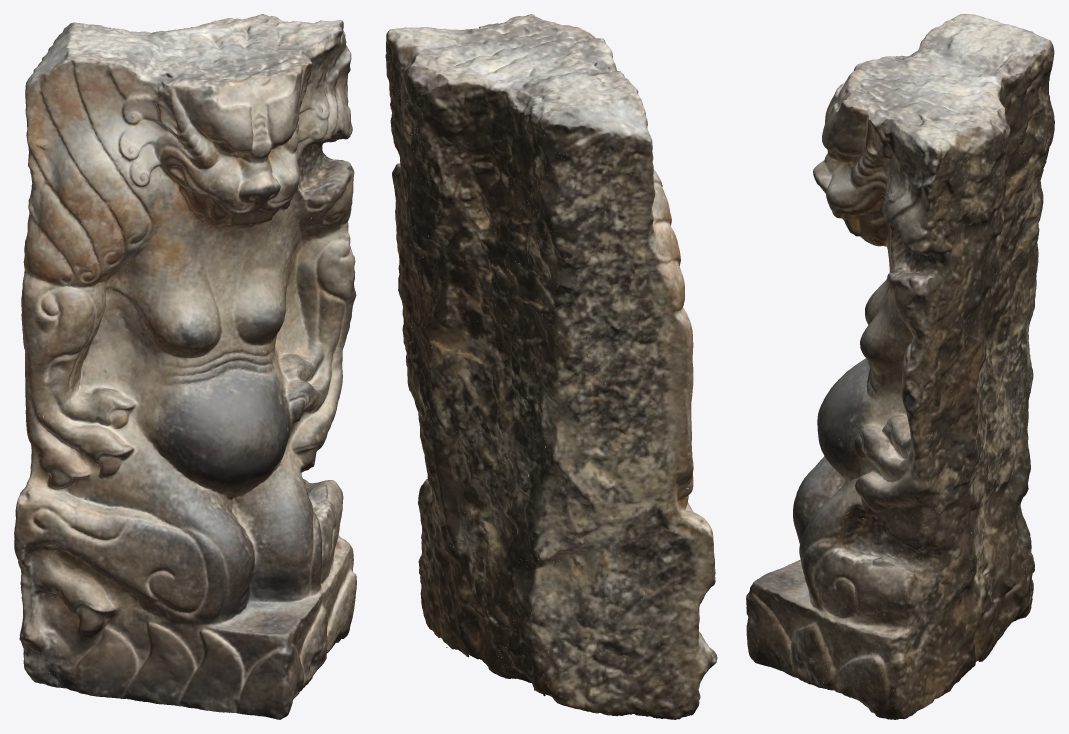
File: kneeling_winged_monster.glb
3 views of the same model, side by side, from view 1: azimuth 30°, elevation 25°; view 2: azimuth 150°, elevation 25°; view 3: azimuth 270°, elevation 25° (orthographic). The views are drawn at different scales.
Visible parts, largest first — view 1: Object_4, Object_5; view 2: Object_4, Object_5; view 3: Object_4, Object_5.
Boxes of the visible parts, bbox=[...] form: Object_4: bbox=[14, 20, 356, 719]; Object_5: bbox=[19, 14, 354, 700]; Object_4: bbox=[385, 29, 717, 719]; Object_5: bbox=[386, 14, 714, 719]; Object_4: bbox=[746, 14, 1054, 719]; Object_5: bbox=[750, 14, 1054, 719].
Bounding box in the file's own units: 0.3483 × 0.615 × 0.2877.
Materials: 1 (1 with a texture image).
